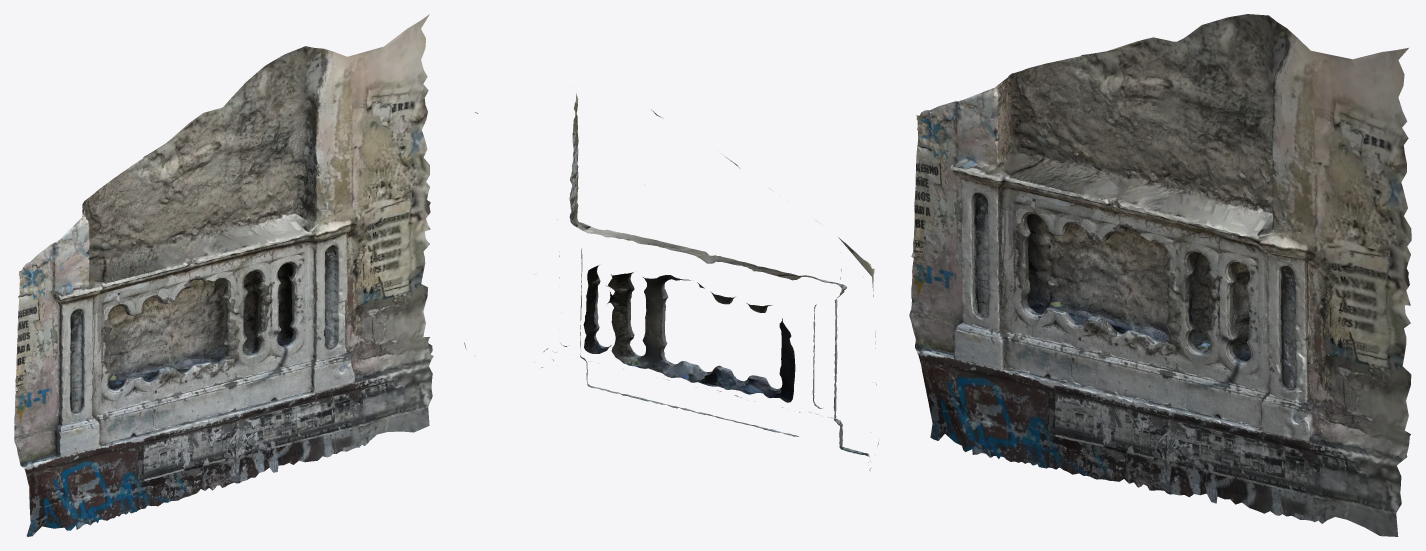
The model's file is frag1.glb.
3 renders of one model, left to right at view 1: azimuth 30°, elevation 25°; view 2: azimuth 150°, elevation 25°; view 3: azimuth 330°, elevation 25°, orthographic. The views are drawn at different scales.
Parts seen in each view (by area): view 1: 6d9df3bda1030dbdeb1439337033d17e01b702cf/Modelo4; view 2: 6d9df3bda1030dbdeb1439337033d17e01b702cf/Modelo4; view 3: 6d9df3bda1030dbdeb1439337033d17e01b702cf/Modelo4.
Part boxes in pixels (bbox=[...]): 6d9df3bda1030dbdeb1439337033d17e01b702cf/Modelo4: bbox=[14, 14, 433, 536]; 6d9df3bda1030dbdeb1439337033d17e01b702cf/Modelo4: bbox=[464, 93, 878, 470]; 6d9df3bda1030dbdeb1439337033d17e01b702cf/Modelo4: bbox=[909, 14, 1411, 536].
Size of the model in its own units: 2.1 by 2.05 by 0.1912.
1 material, 1 textured.
